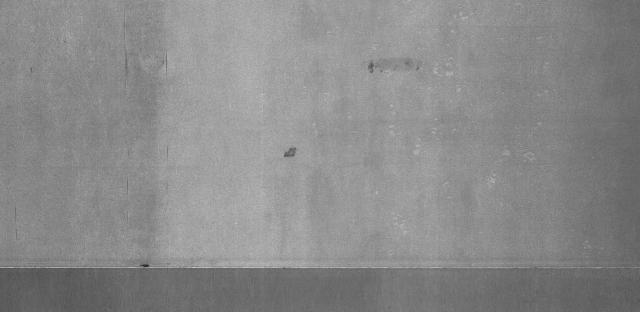welding_line: (5, 257, 640, 275)
